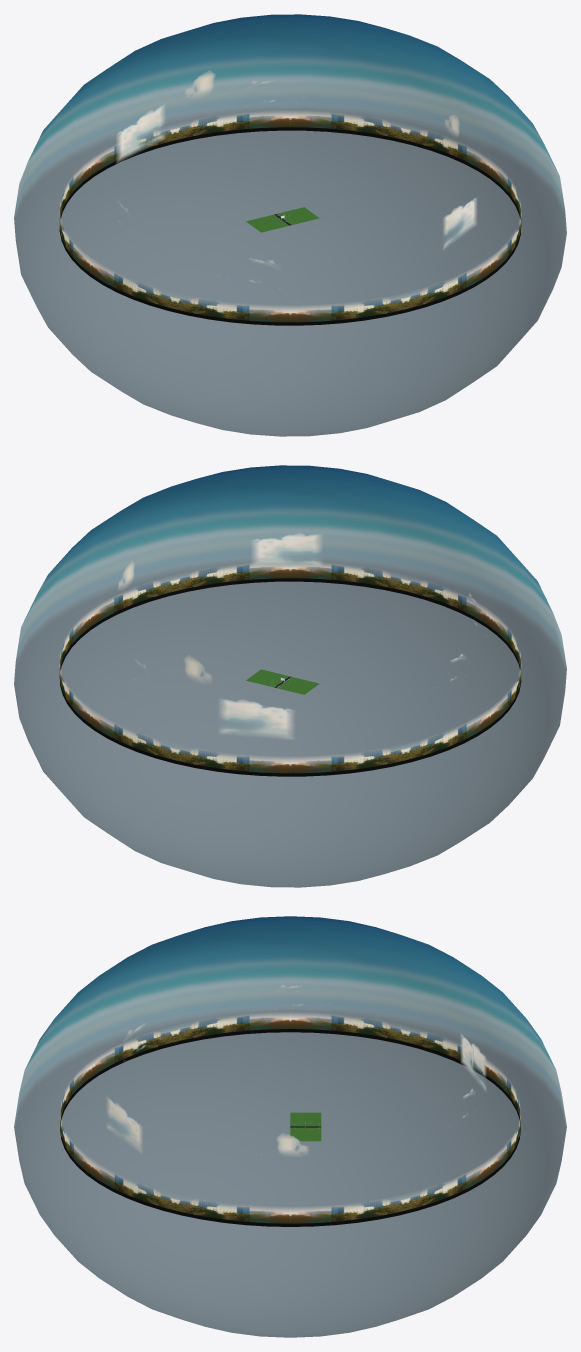
File: endless_highway.glb
3 views of the same model, one above another, from view 1: azimuth 30°, elevation 25°; view 2: azimuth 150°, elevation 25°; view 3: azimuth 270°, elevation 25° (orthographic).
Parts seen in each view (by area): view 1: Sky_Sky, Sky_Horizon, Sky_Cloud1, Road_Grass, Sky_Cloud3; view 2: Sky_Sky, Sky_Horizon, Sky_Cloud1, Road_Grass, Sky_Cloud3; view 3: Sky_Sky, Sky_Horizon, Sky_Cloud1, Road_Grass, Sky_Cloud3.
Part boxes in pixels (box(x1,y1,x2,y2)): Sky_Sky: box(14, 14, 566, 436); Sky_Horizon: box(59, 107, 521, 325); Sky_Cloud1: box(116, 104, 476, 249); Road_Grass: box(246, 207, 319, 232); Sky_Cloud3: box(184, 70, 460, 137); Sky_Sky: box(14, 465, 566, 887); Sky_Horizon: box(59, 563, 521, 776); Sky_Cloud1: box(219, 533, 321, 739); Road_Grass: box(246, 669, 319, 694); Sky_Cloud3: box(118, 560, 212, 683); Sky_Sky: box(14, 916, 566, 1337); Sky_Horizon: box(60, 1008, 520, 1226); Sky_Cloud1: box(107, 1034, 486, 1153); Road_Grass: box(290, 1112, 321, 1141); Sky_Cloud3: box(261, 1046, 473, 1156).
Bounding box in the file's own units: 3600 × 2520 × 3600.
19 materials, 9 textured.
